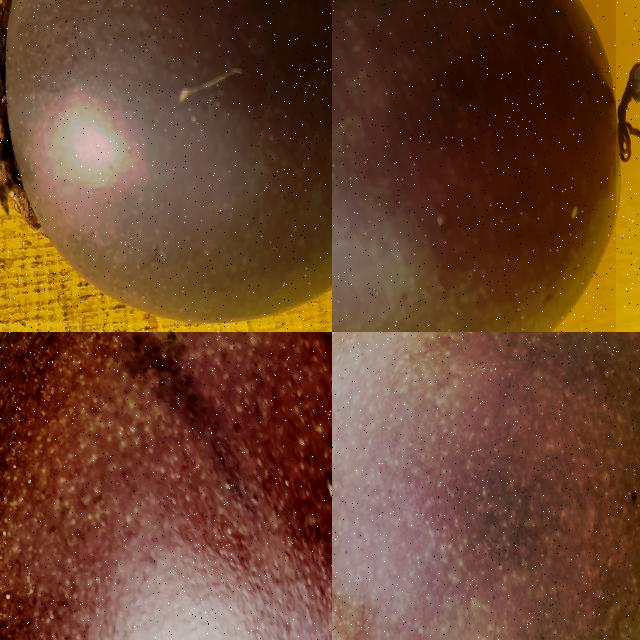Estado-4: (332, 332, 640, 640)
Estado-5: (0, 332, 332, 640), (332, 0, 616, 332)
